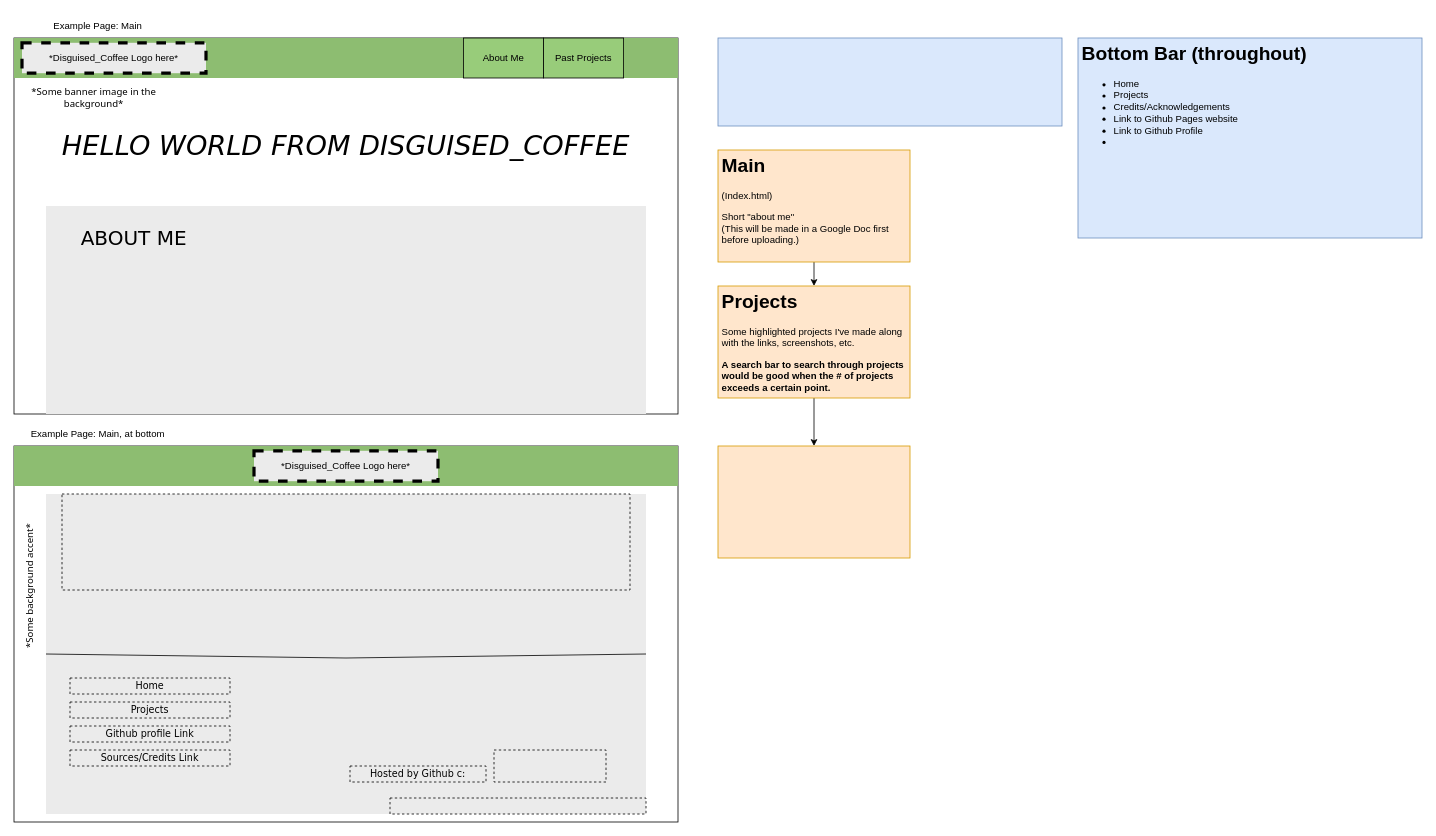
Some shapes in this 1436 by 836 pixel diagram are drawn without their labels. The shapes that lost their labels are listed below. From the top down, each one's centre as x and y in pixels, then its label:
At (889,81): "Top Bar (throughout entire website) Main Projects About Me (for now)".
At (813,501): "<someProject> Description and documentation for a highlighted project".
At (345,541): "*some type of text*".
At (549,765): "*Git would be here*".
At (517,805): "This website was made by Disguised_Coffee".
